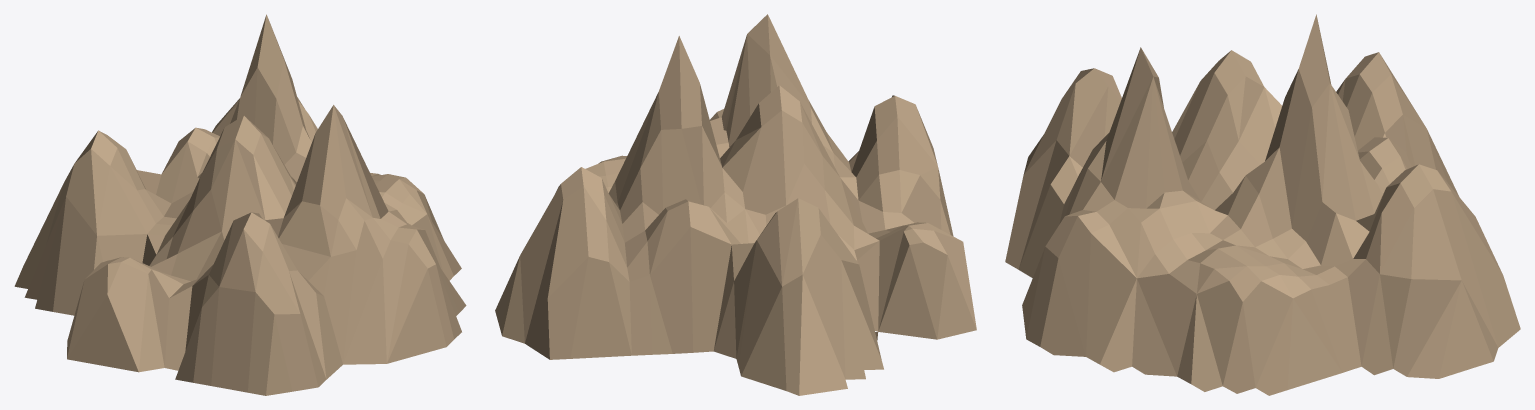
Rendered from rock_piles_2.FBX.
The picture shows the model from 3 angles, left to right: view 1: azimuth 30°, elevation 25°; view 2: azimuth 150°, elevation 25°; view 3: azimuth 270°, elevation 25°; orthographic projection. The views are drawn at different scales.
Visible parts, largest first — view 1: rock_piles_2; view 2: rock_piles_2; view 3: rock_piles_2.
Part boxes in pixels (left/top/right/bottom): rock_piles_2: left=14, top=14, right=466, bottom=395; rock_piles_2: left=495, top=14, right=976, bottom=395; rock_piles_2: left=1005, top=14, right=1520, bottom=395.
Size of the model in its own units: 2921 by 1797 by 2844.
